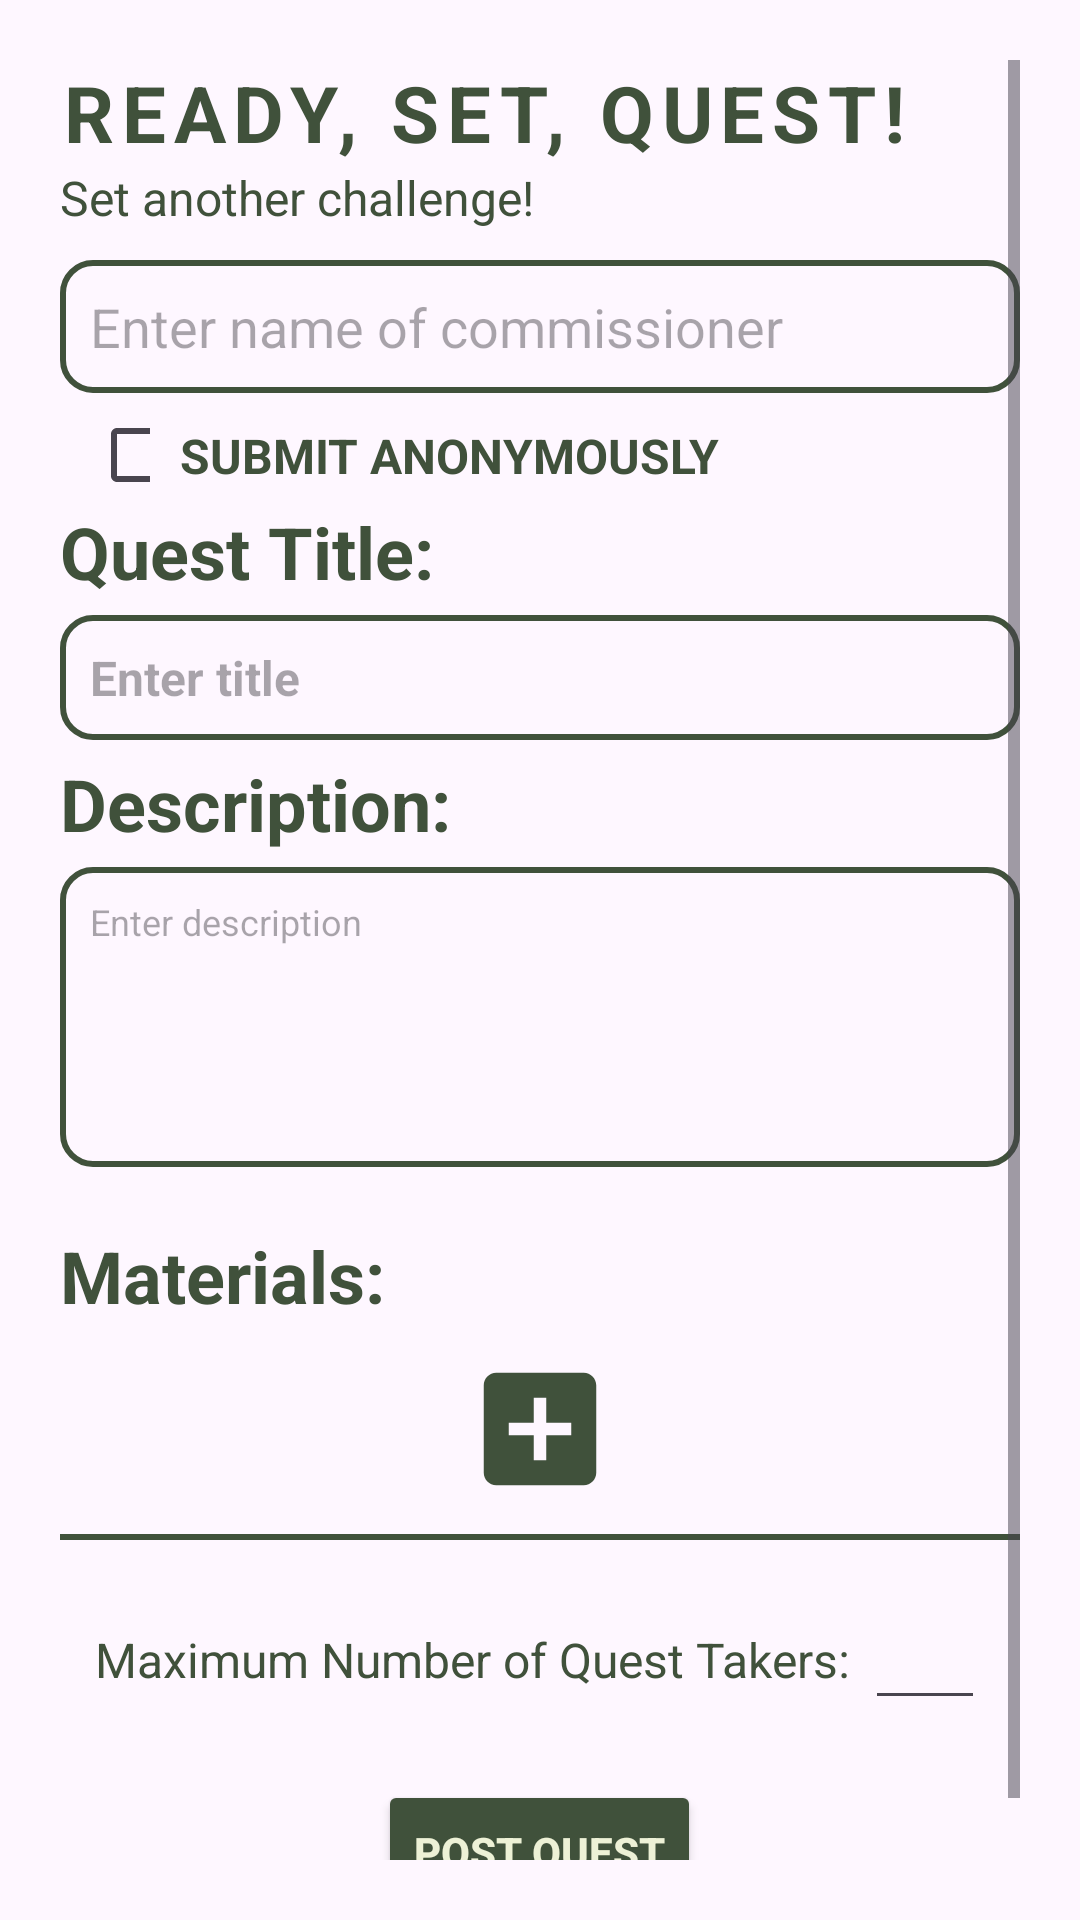

Screen size 1080px x 1920px. Icon name, then its center in pixels as point (x, y):
addboxicon: point (540, 1429)
